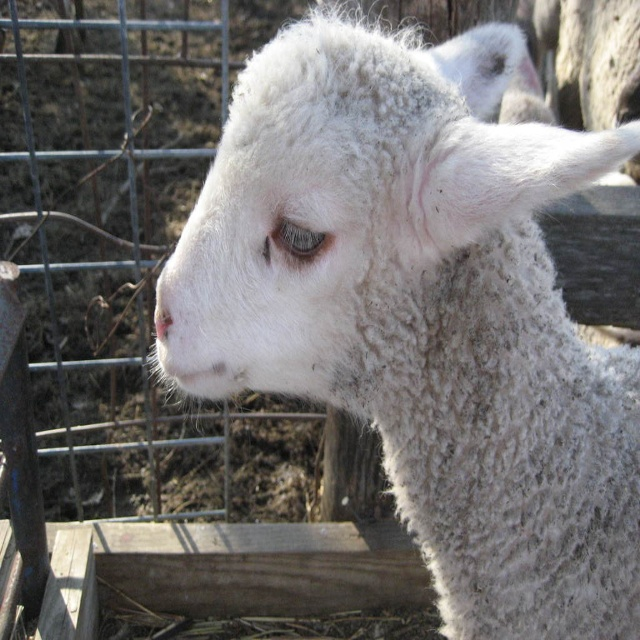Sheep: (134, 0, 640, 623)
